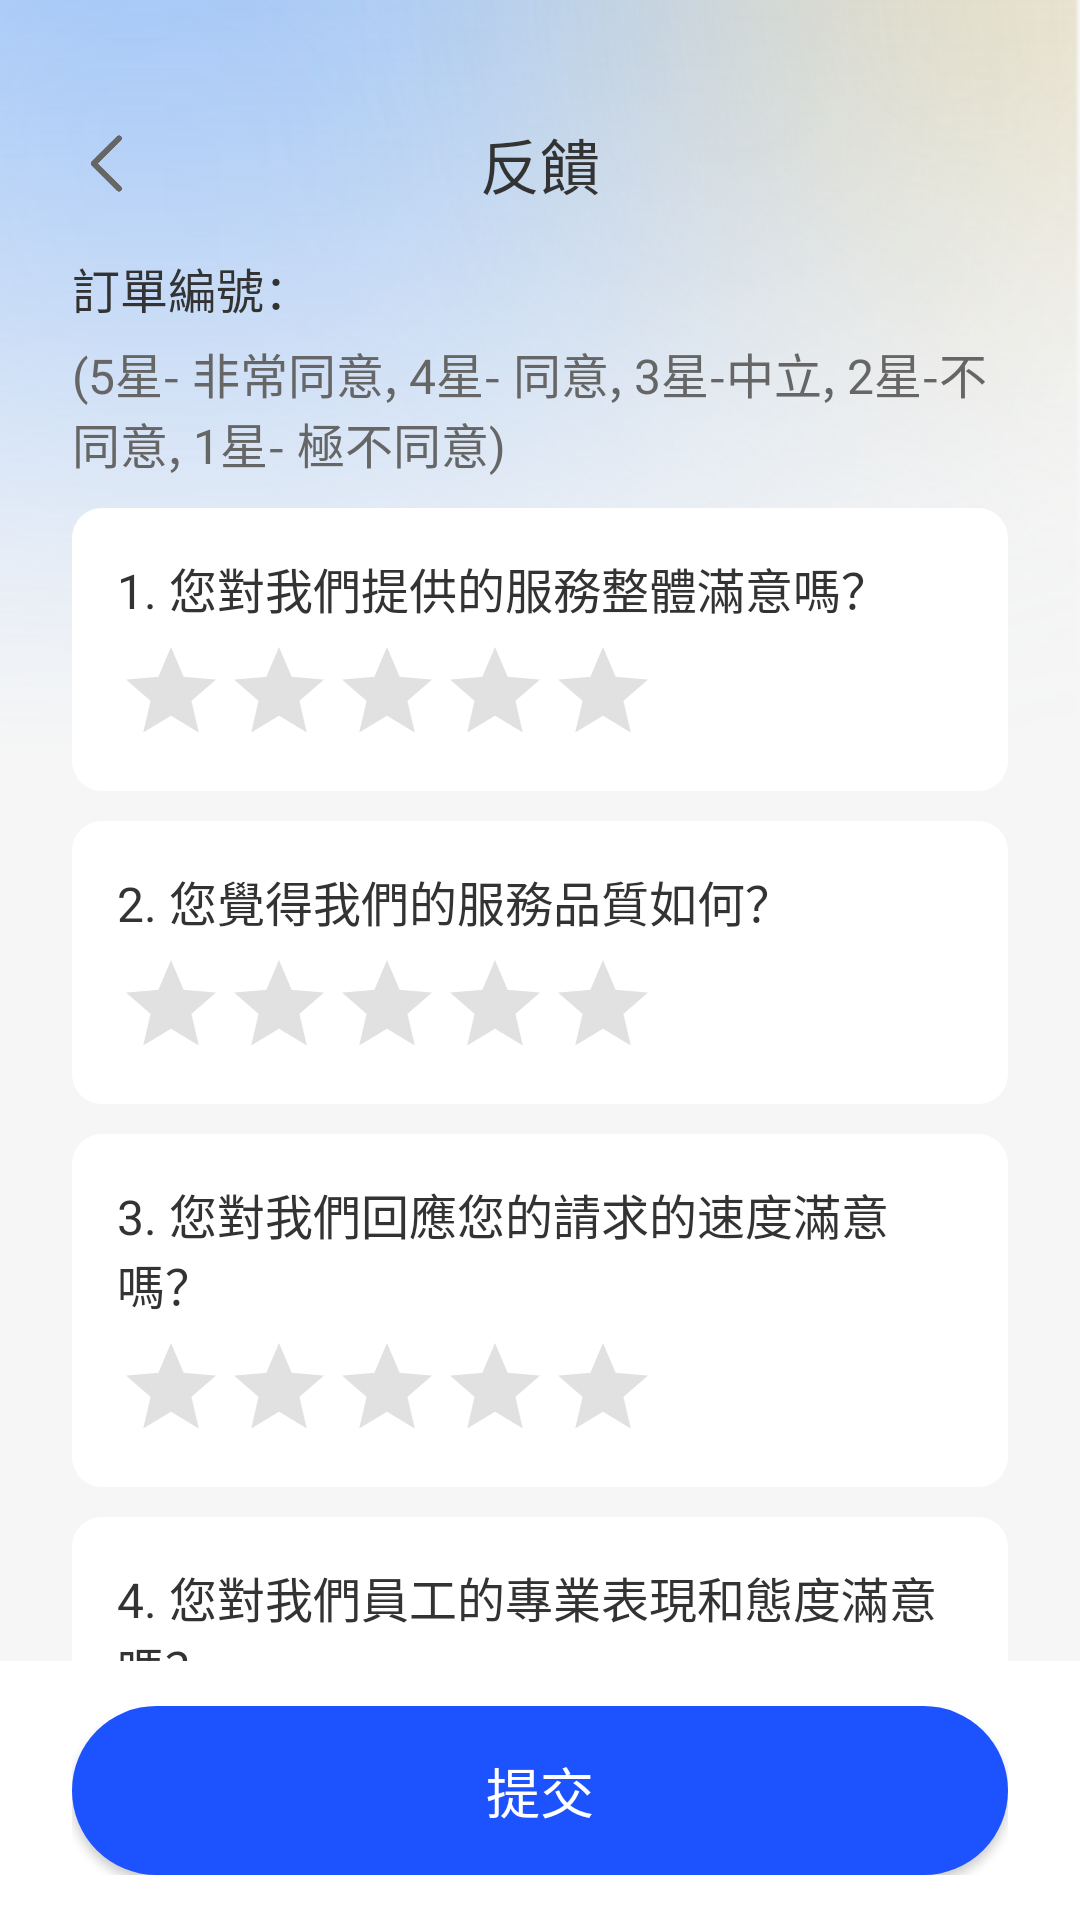

Where to tap for icons on this 1080px×1920px app screen, as (x=x, y=y):
back: (x=106, y=163)
